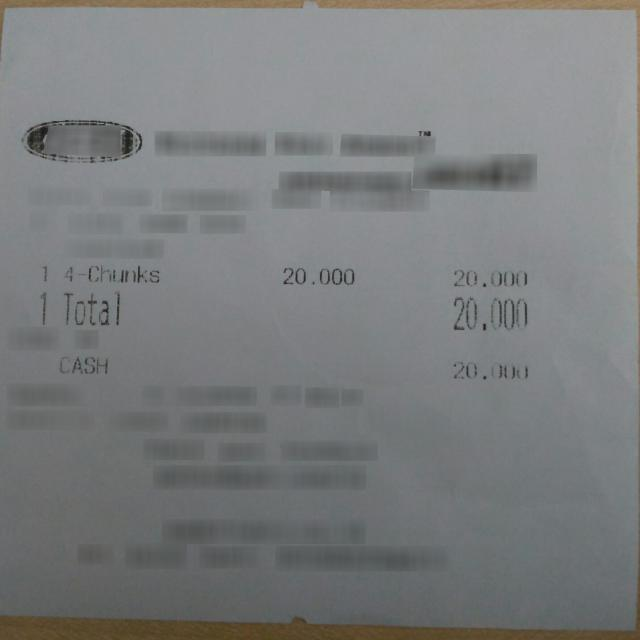text: (454, 296, 527, 331), (63, 290, 121, 326), (65, 266, 159, 283), (283, 267, 353, 285), (453, 270, 526, 286), (454, 362, 527, 378), (59, 356, 108, 374), (36, 291, 51, 325), (40, 266, 50, 284)
